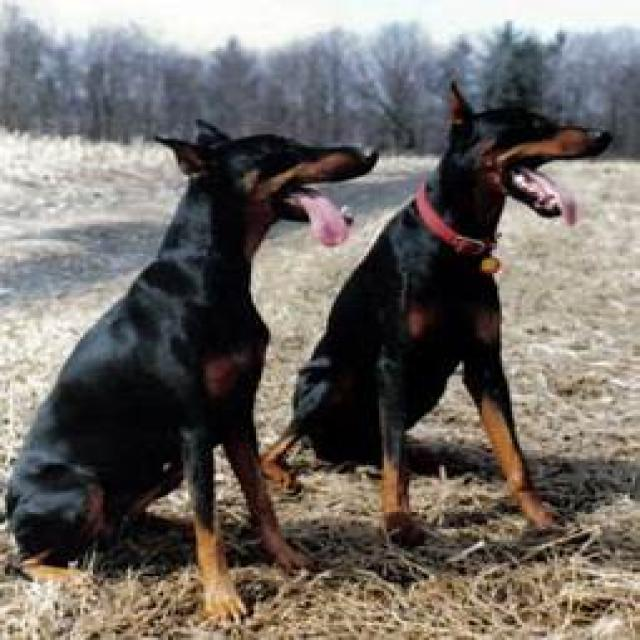dog: (5, 130, 374, 621), (284, 83, 612, 550)
